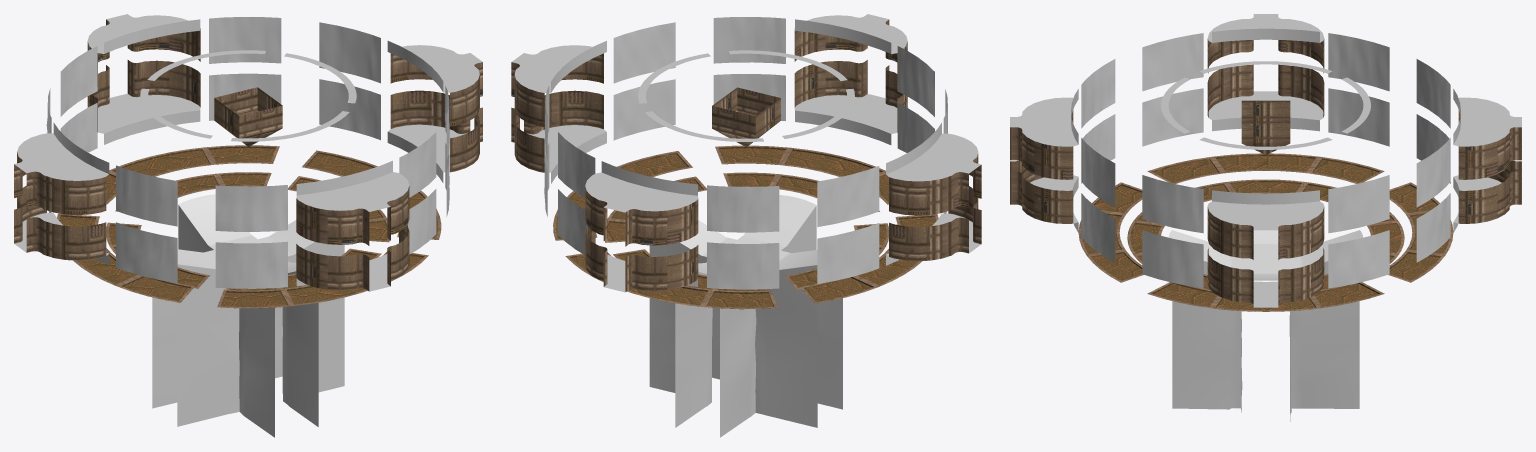
The model's file is Dragonfly_BarrelBattle_Other.fbx.
3 renders of one model, left to right at view 1: azimuth 30°, elevation 25°; view 2: azimuth 150°, elevation 25°; view 3: azimuth 270°, elevation 25°, orthographic. The views are drawn at different scales.
Visible parts, largest first — view 1: Dragonfly_BarrelBattle_Other; view 2: Dragonfly_BarrelBattle_Other; view 3: Dragonfly_BarrelBattle_Other.
Boxes of the visible parts, box(x1,y1,x2,y2) form: Dragonfly_BarrelBattle_Other: box(14, 14, 482, 437); Dragonfly_BarrelBattle_Other: box(511, 14, 981, 437); Dragonfly_BarrelBattle_Other: box(1010, 14, 1521, 421).
Bounding box in the file's own units: 4200 × 2658 × 4200.
